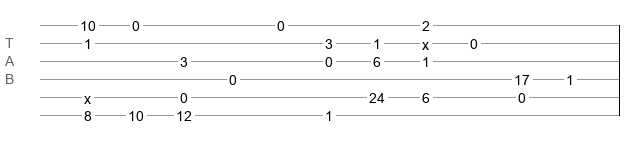0: (132, 18, 140, 28), (180, 90, 188, 100), (229, 72, 237, 82), (277, 18, 285, 28), (325, 54, 333, 64), (470, 36, 478, 46), (518, 90, 526, 100)
1: (84, 36, 92, 46), (325, 108, 333, 118), (373, 36, 381, 46), (422, 54, 430, 64), (566, 72, 574, 82)
10: (80, 18, 96, 28), (128, 108, 144, 118)
12: (176, 108, 192, 118)
17: (514, 72, 530, 82)
2: (422, 18, 430, 28)
24: (369, 90, 385, 100)
3: (180, 54, 188, 64), (325, 36, 333, 46)
6: (373, 54, 381, 64), (422, 90, 430, 100)
8: (84, 108, 92, 118)
x: (84, 91, 91, 99), (422, 37, 429, 45)
